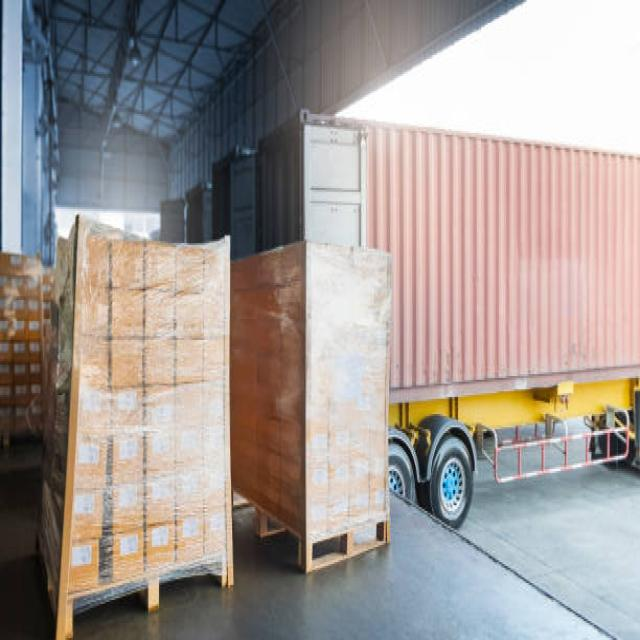Wooden-Pallets: (307, 516, 391, 580)
